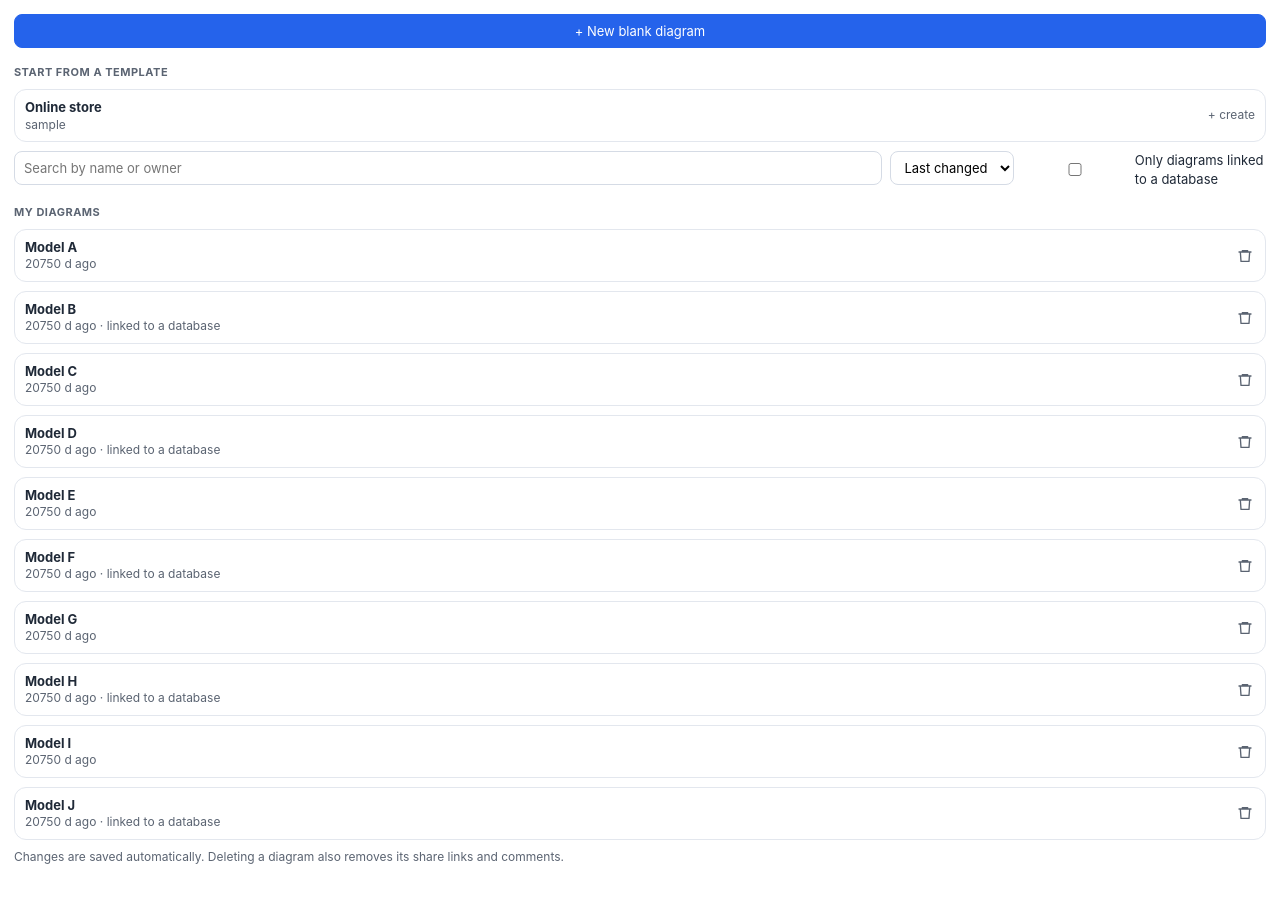
Test case: Library: finding a diagram › the search shows once there are more than 8 diagrams, and says when nothing matches
Type "model j" into the search field named "Search diagrams". click: [448, 168]
box: top-left (14, 151), bottom-right (882, 185)
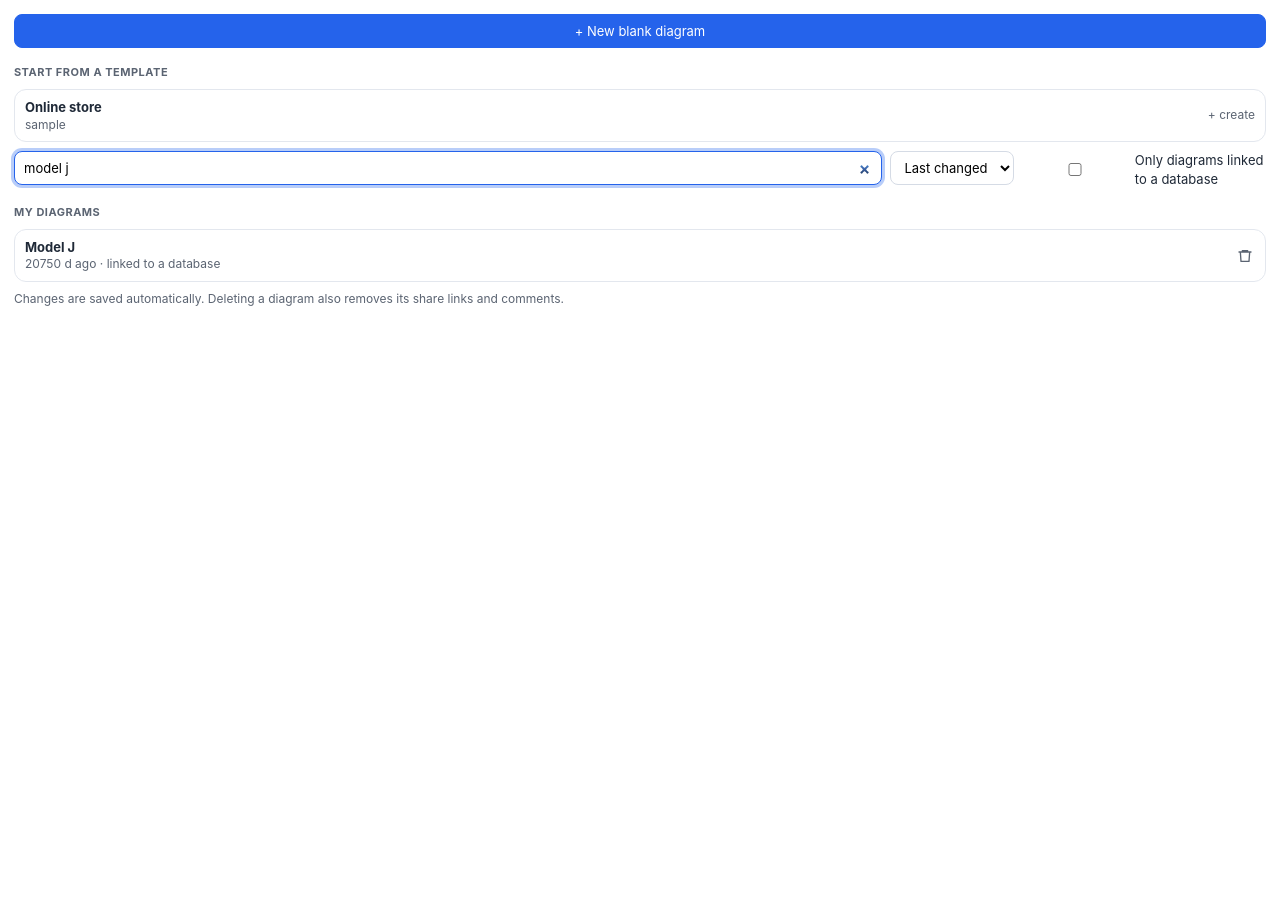
Replace the text in the search field named "Search diagrams" with "zzz". click: [448, 168]
box: top-left (14, 151), bottom-right (882, 185)
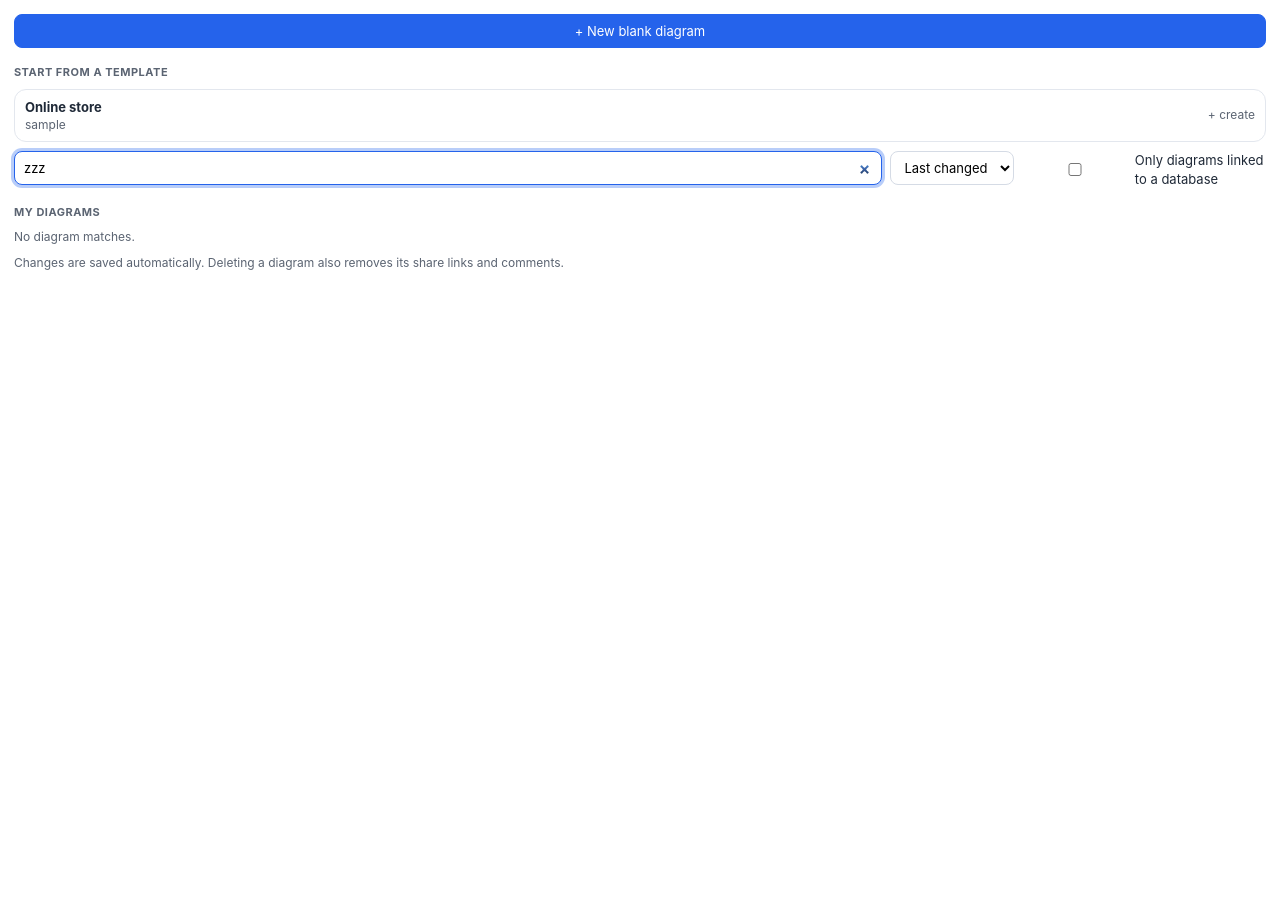
expect the text "No diagram matches." is shown: met, box top-left (14, 229), bottom-right (135, 244)
